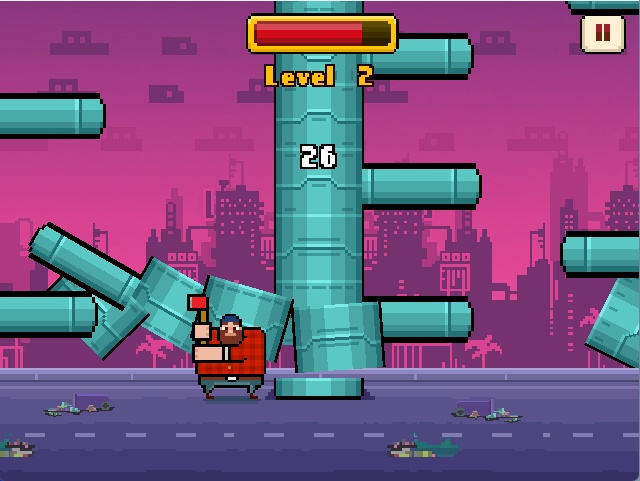right_obs: (356, 151, 494, 222)
timberman: (183, 286, 273, 404)
